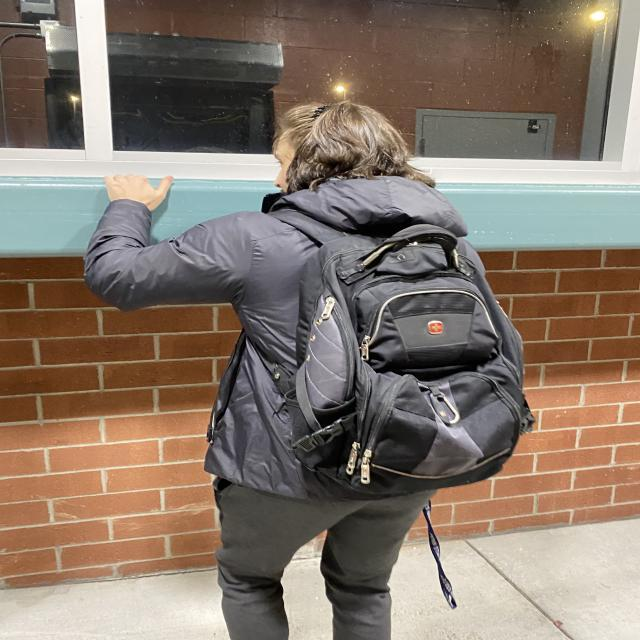Backpacks: (285, 225, 540, 505)
